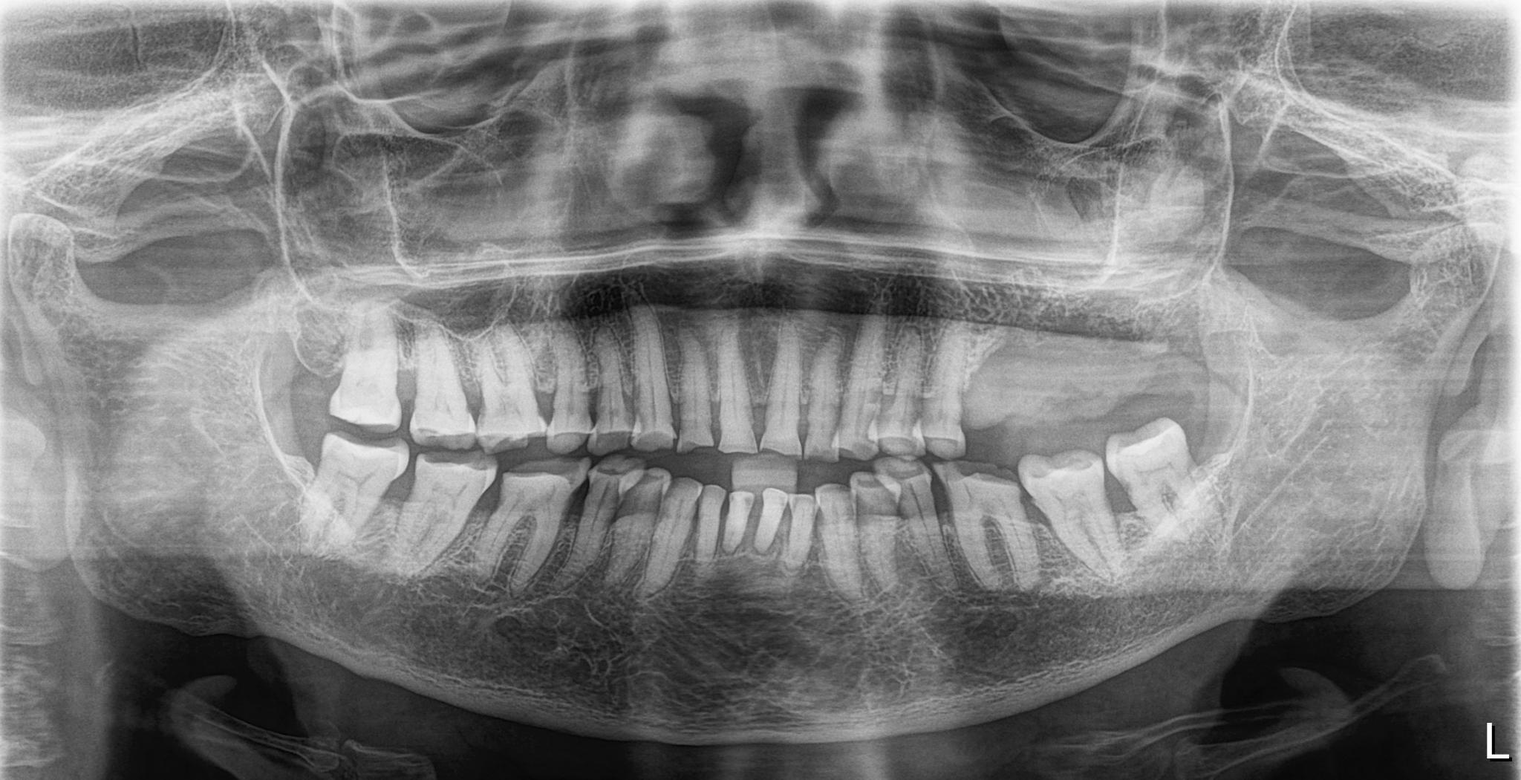Missing Tooth: (962, 338, 1029, 447), (1088, 318, 1147, 435), (1030, 334, 1088, 441), (1158, 329, 1207, 415)
Periodontal Pocket: (906, 329, 957, 458), (711, 329, 763, 450), (579, 338, 632, 443), (538, 340, 589, 447), (800, 332, 843, 456), (761, 338, 803, 447), (862, 325, 895, 453), (645, 319, 678, 444), (683, 357, 715, 446)
